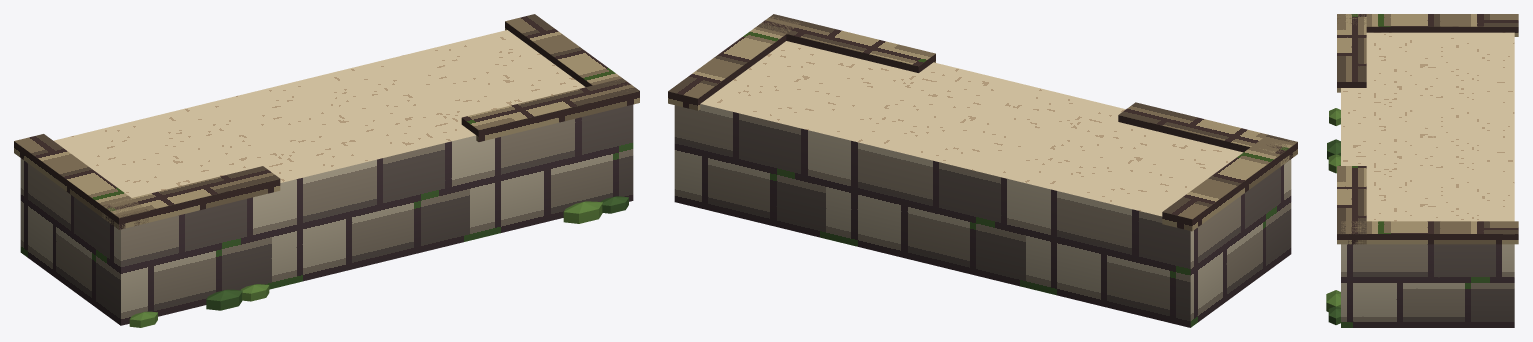
The model's file is scene_plat_f5.glb.
The picture shows the model from 3 angles, left to right: view 1: azimuth 30°, elevation 25°; view 2: azimuth 150°, elevation 25°; view 3: azimuth 270°, elevation 25°; orthographic projection. The views are drawn at different scales.
Visible parts, largest first — view 1: scene_plat_f5; view 2: scene_plat_f5; view 3: scene_plat_f5.
Boxes of the visible parts, x1,y1,x2,y2 form: scene_plat_f5: [14, 14, 639, 327]; scene_plat_f5: [668, 14, 1297, 327]; scene_plat_f5: [1326, 14, 1518, 327].
Size of the model in its own units: 6.3 by 1.36 by 2.33.
3 materials, 2 textured.
